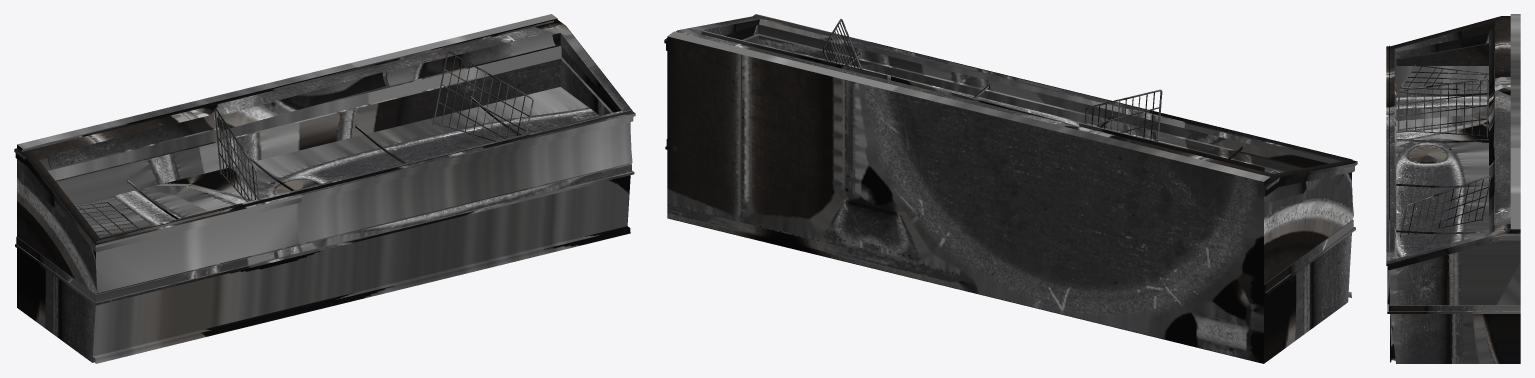
3 renders of one model, left to right at view 1: azimuth 30°, elevation 25°; view 2: azimuth 150°, elevation 25°; view 3: azimuth 270°, elevation 25°, orthographic. The views are drawn at different scales.
Visible parts, largest first — view 1: Fridge; view 2: Fridge; view 3: Fridge.
Boxes of the visible parts, x1=… form: Fridge: x1=14, y1=14, x2=635, y2=363; Fridge: x1=664, y1=14, x2=1357, y2=363; Fridge: x1=1386, y1=14, x2=1520, y2=363.
Size of the model in its own units: 3.81 by 1.16 by 0.9954.
